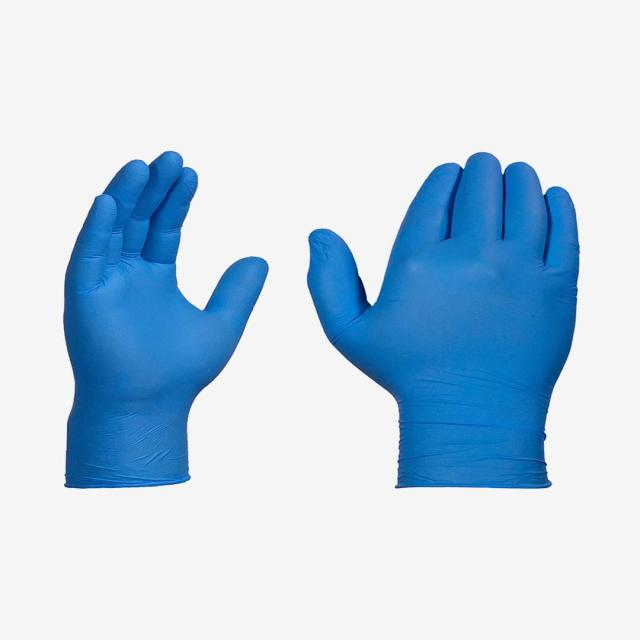Gloves: (303, 119, 605, 535), (65, 120, 276, 525)
